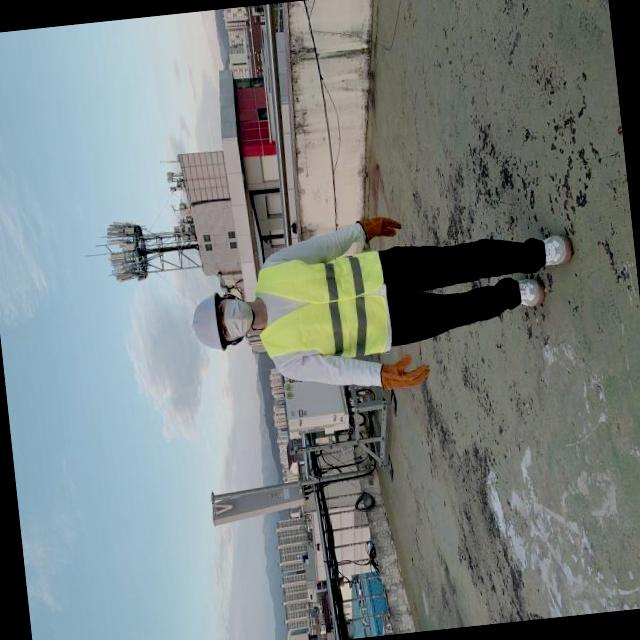vest: (248, 246, 398, 366)
